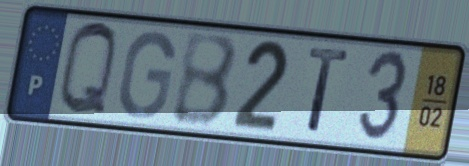2: (229, 37, 295, 137)
3: (353, 47, 410, 148)
B: (169, 33, 241, 131)
G: (115, 28, 178, 122)
Q: (55, 18, 120, 120)
T: (305, 43, 353, 138)
